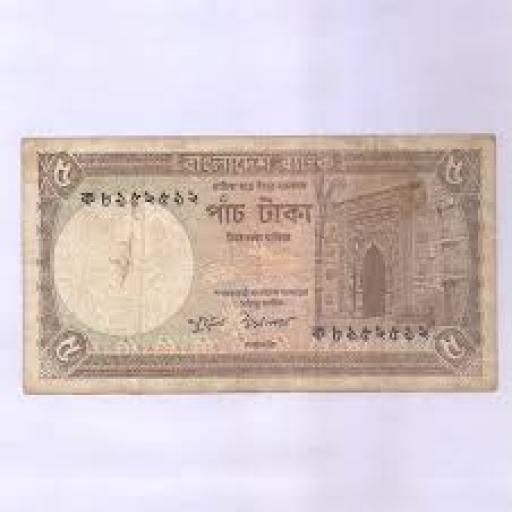5taka: (23, 135, 494, 390)
